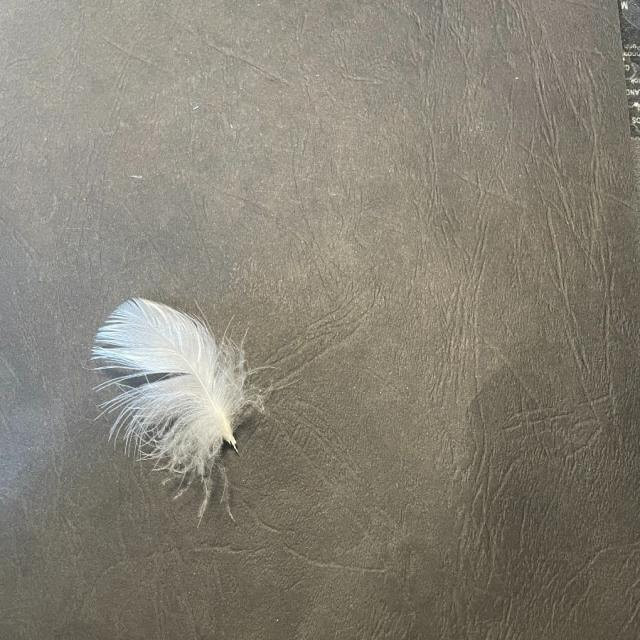feather: (89, 291, 275, 522)
